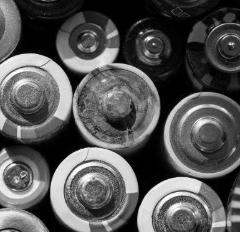electronic: (158, 78, 240, 190), (132, 158, 240, 232), (53, 137, 137, 231), (2, 53, 76, 149), (115, 13, 189, 83), (51, 11, 127, 71)
